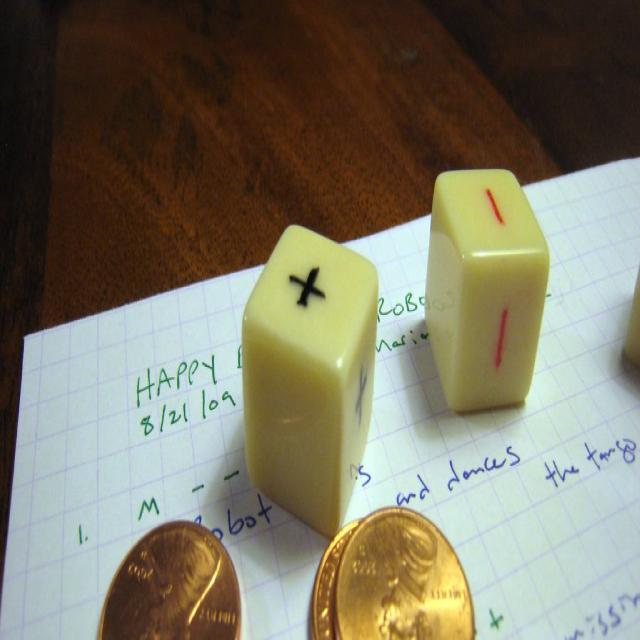Coin: (330, 500, 478, 639), (94, 513, 242, 639), (306, 513, 364, 639)
